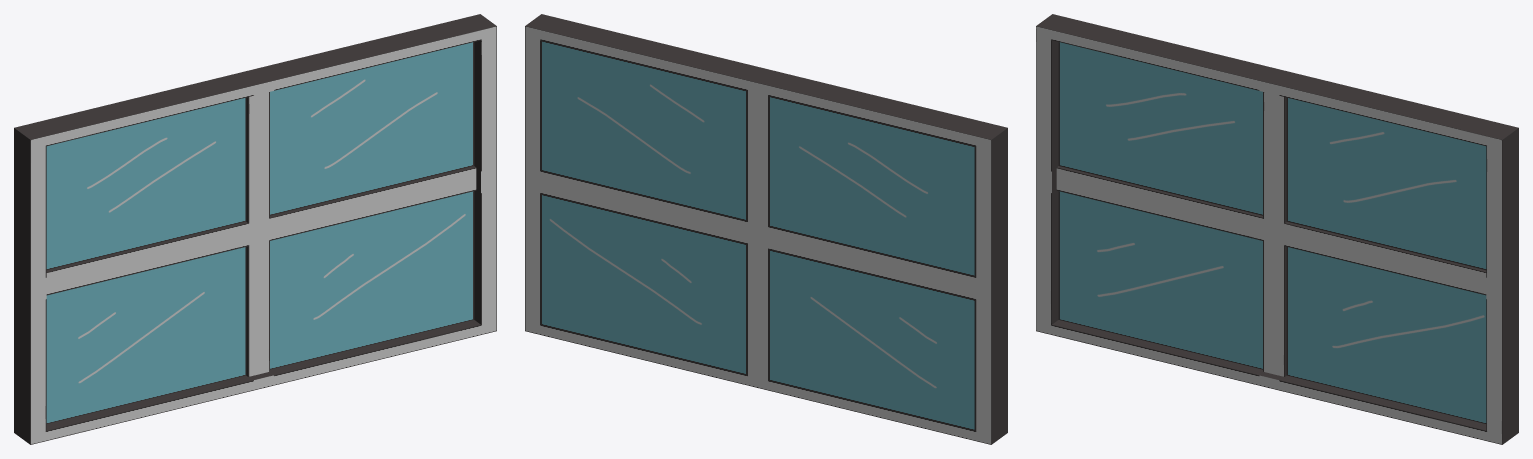
File: Window.fbx
3 renders of one model, left to right at view 1: azimuth 30°, elevation 25°; view 2: azimuth 150°, elevation 25°; view 3: azimuth 330°, elevation 25°, orthographic.
Visible parts, largest first — view 1: Cube; view 2: Cube; view 3: Cube.
Part boxes in pixels (<box>): Cube: <box>14,14,496,444</box>; Cube: <box>525,14,1007,444</box>; Cube: <box>1036,14,1518,444</box>.
Bounding box in the file's own units: 800 × 500 × 49.22.
